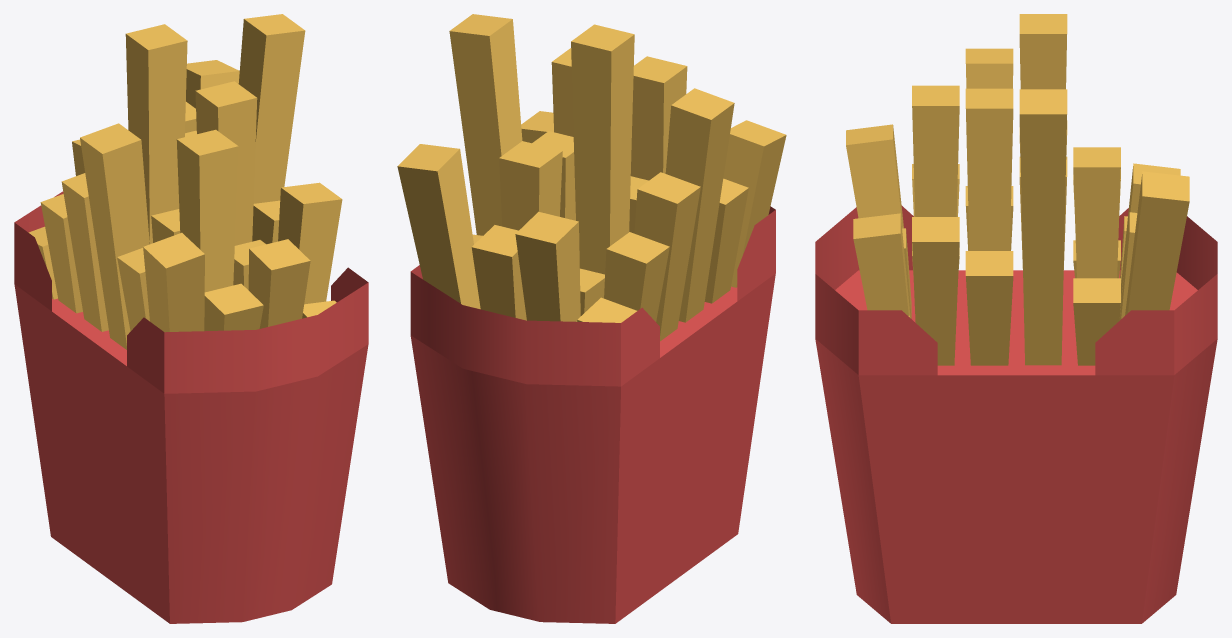
Rendered from fries.obj.
3 views of the same model, side by side, from view 1: azimuth 30°, elevation 25°; view 2: azimuth 150°, elevation 25°; view 3: azimuth 270°, elevation 25° (orthographic). The views are drawn at different scales.
Visible parts, largest first — view 1: fries; view 2: fries; view 3: fries.
Part boxes in pixels (left/top/right/bottom): fries: left=14, top=14, right=368, bottom=623; fries: left=397, top=14, right=786, bottom=623; fries: left=815, top=14, right=1217, bottom=623.
Size of the model in its own units: 0.183 by 0.3977 by 0.2653.
